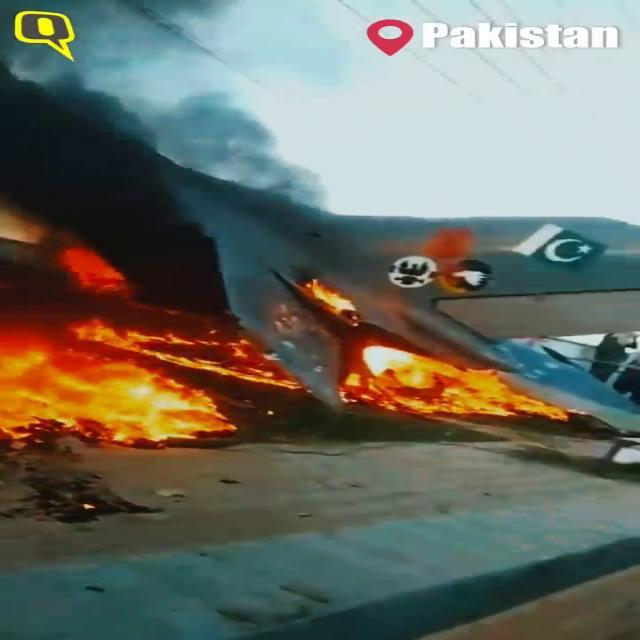Fire: (2, 260, 560, 444), (342, 338, 568, 420)
Smoke: (0, 0, 393, 302)
